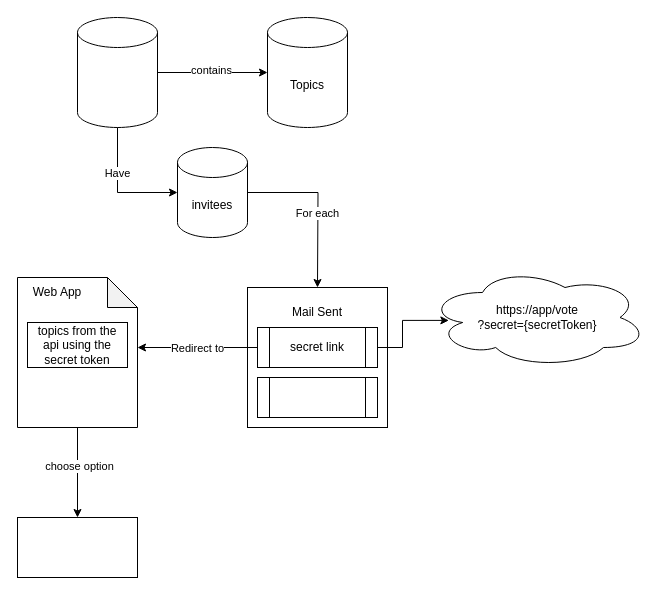
This 665x595 diagram has some shape labels left out. The shapes that lost their labels are listed below. From the top down, each one's centre as x and y in pixels, then its label:
At pixel 117 72: "Meeting Occurrence".
At pixel 317 397: "info".
At pixel 77 547: "API".
